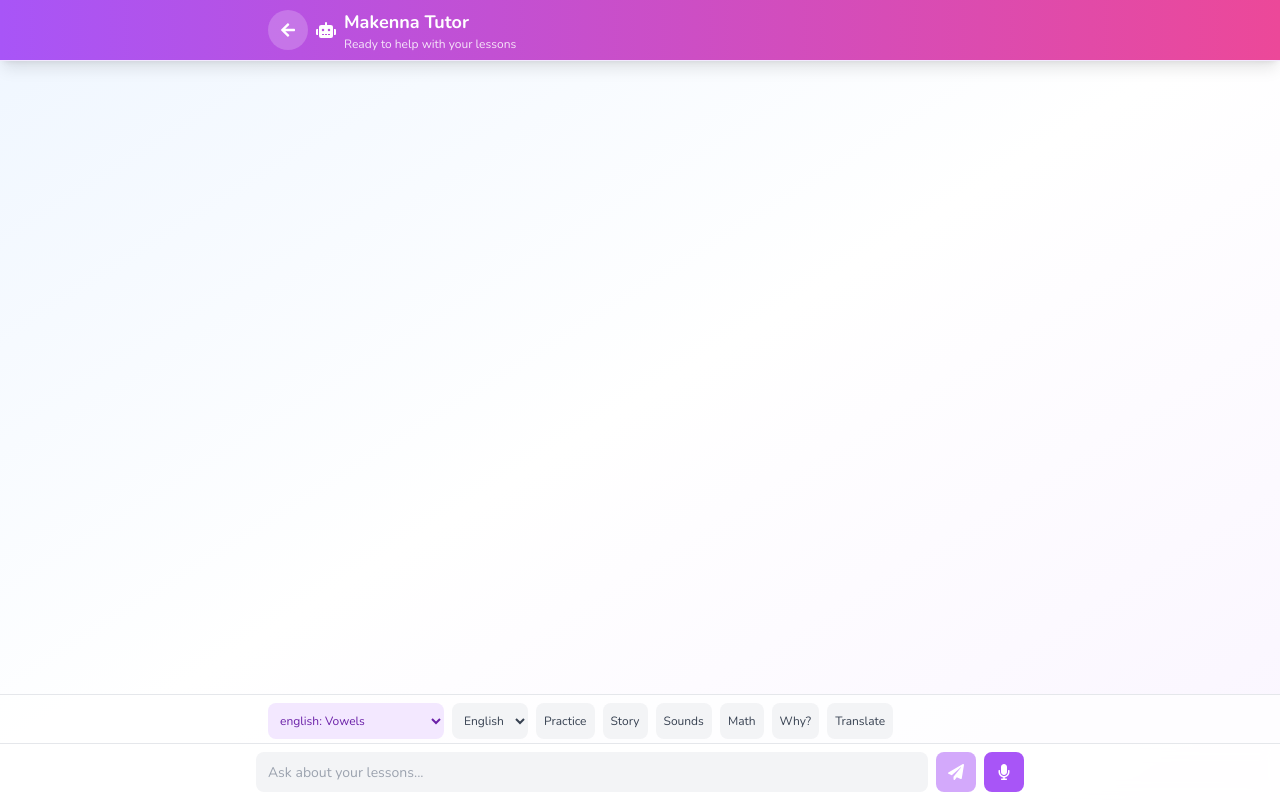
Test: Makenna Tutor page › keeps the active recognizer through transcript updates and submits the final text
Click the button titled "Ask with your voice" at [1004, 772], box [984,752,1024,792]
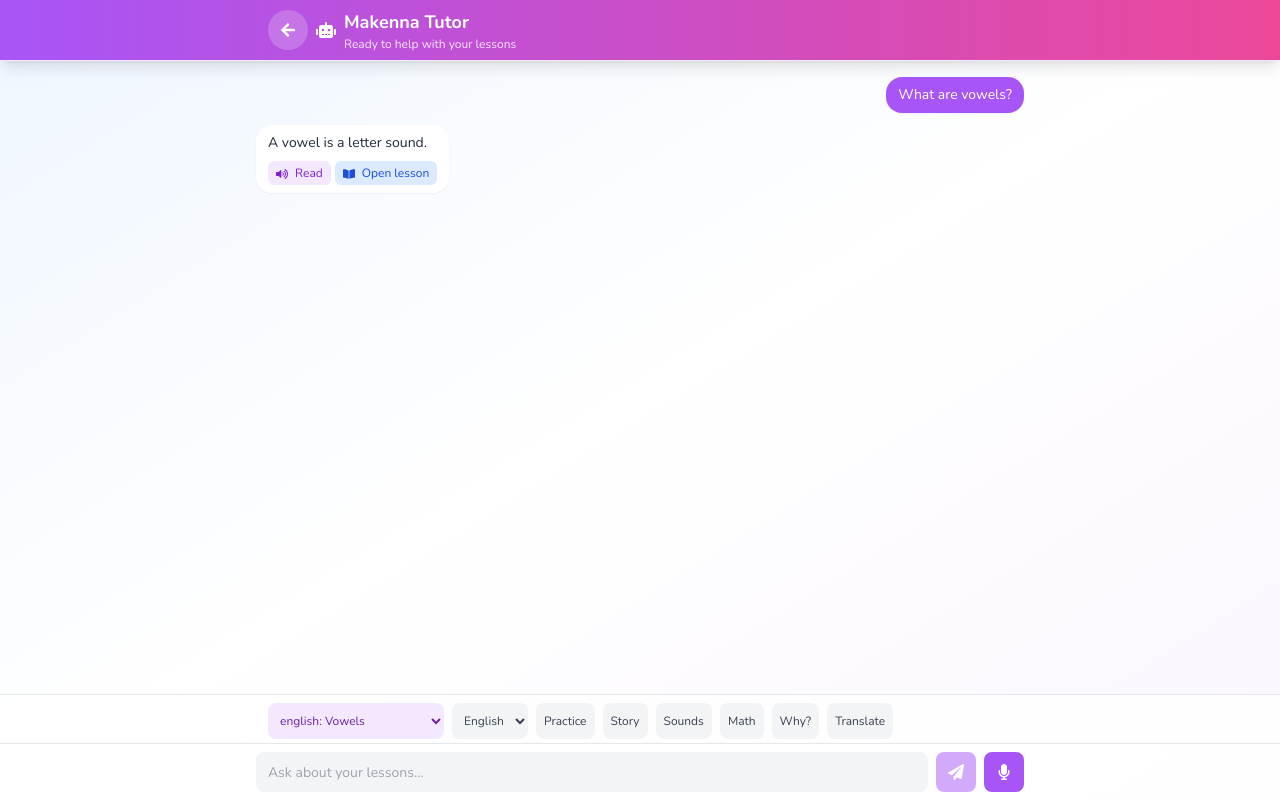
expect the text "What are vowels?" is shown: met, box [898,85,1012,105]
